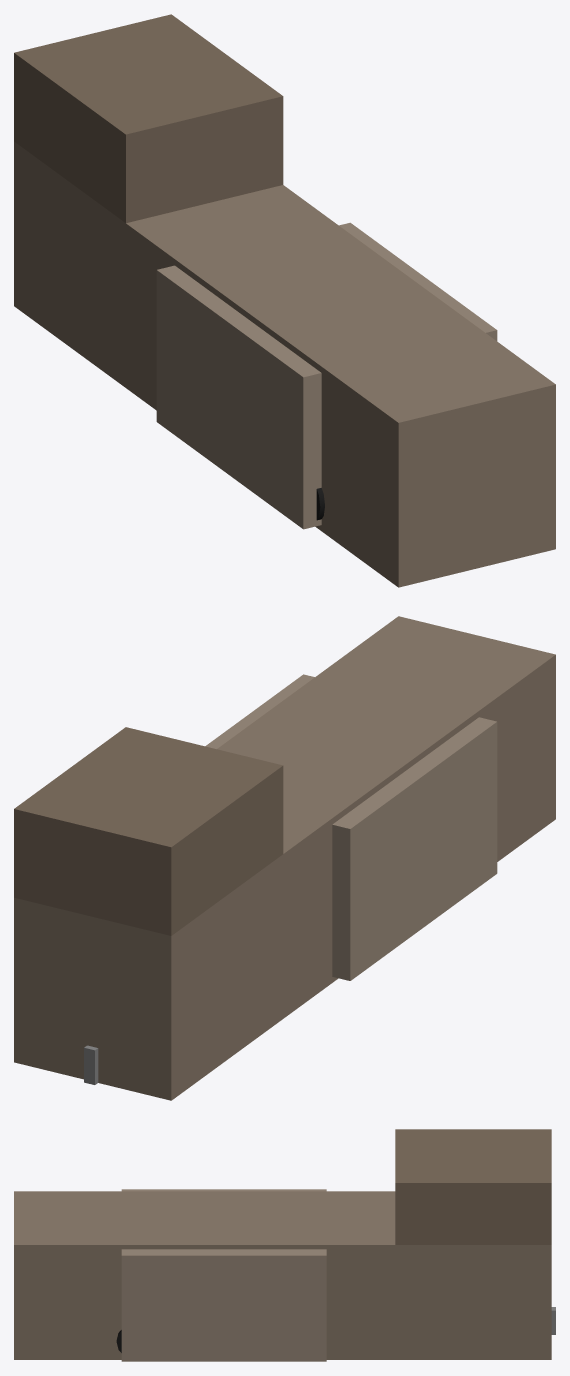
File: rv-fifth-wheel.glb
3 views of the same model, one above another, from view 1: azimuth 30°, elevation 25°; view 2: azimuth 150°, elevation 25°; view 3: azimuth 270°, elevation 25° (orthographic). The views are drawn at different scales.
Size of the model in its own units: 3.2 by 4 by 11.09.
